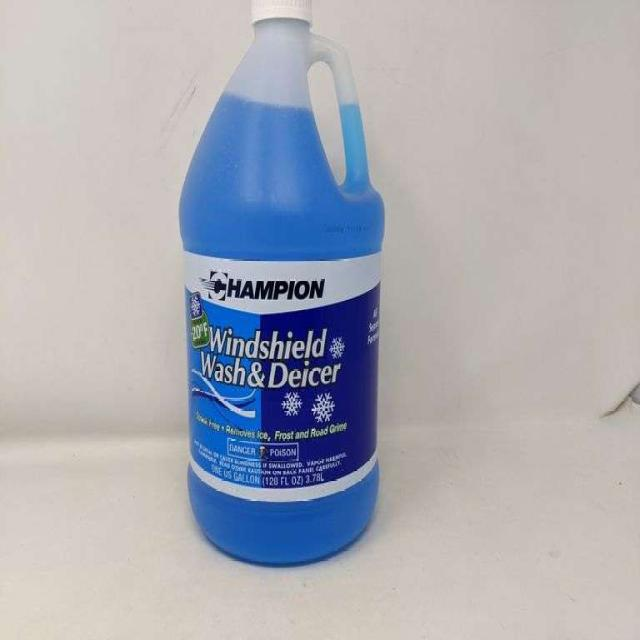winwinshield_washer: (172, 0, 393, 574)
